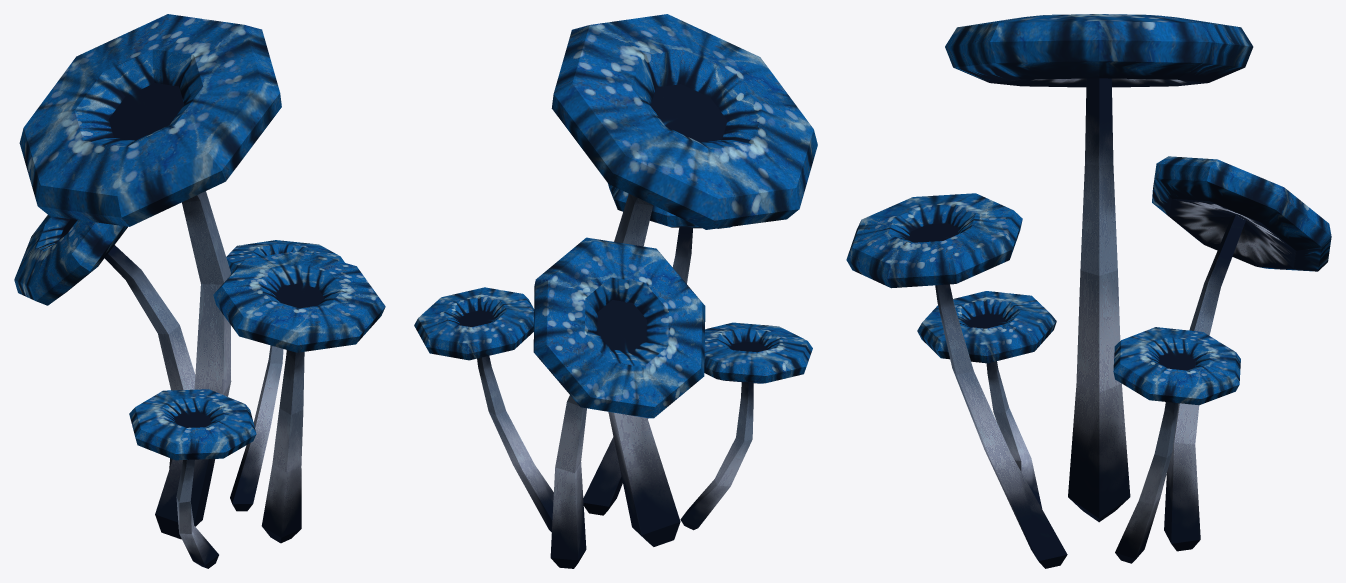
The model's file is FamMushroom.fbx.
The picture shows the model from 3 angles, left to right: view 1: azimuth 30°, elevation 25°; view 2: azimuth 150°, elevation 25°; view 3: azimuth 270°, elevation 25°; orthographic projection. The views are drawn at different scales.
Parts seen in each view (by area): view 1: FamMushroom; view 2: FamMushroom; view 3: FamMushroom.
Boxes of the visible parts, x1,y1,x2,y2 form: FamMushroom: [14, 14, 385, 568]; FamMushroom: [414, 14, 817, 568]; FamMushroom: [846, 14, 1331, 568].
Size of the model in its own units: 0.2663 by 0.3145 by 0.3848.
Materials: 1 (1 with a texture image).
